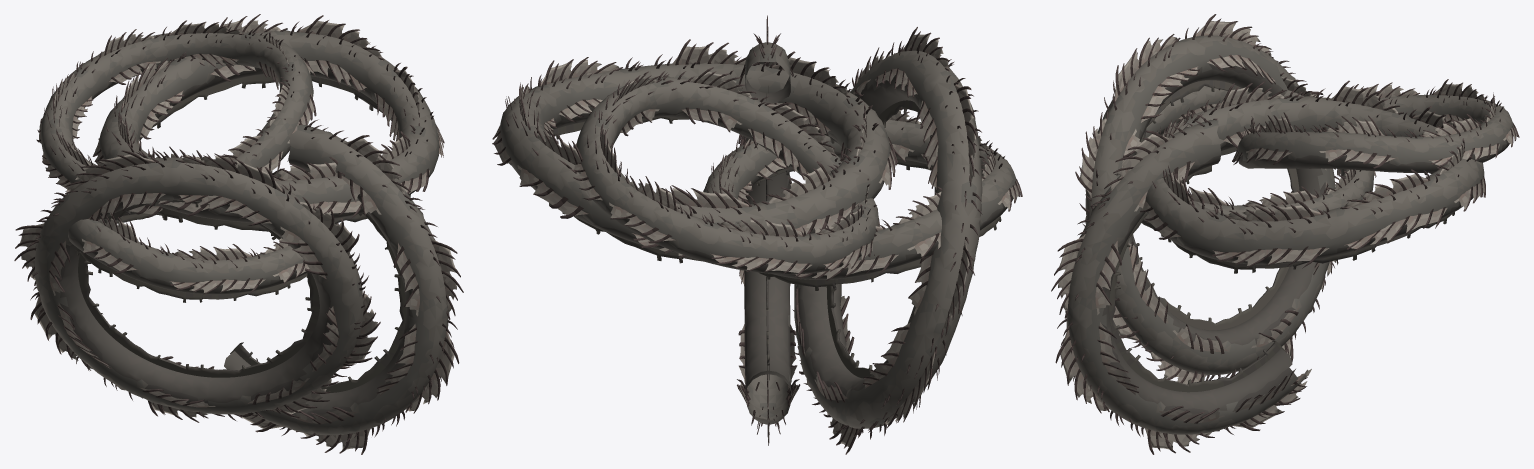
The model's file is Rffffffff_Act_Fix.fbx.
The picture shows the model from 3 angles, left to right: view 1: azimuth 30°, elevation 25°; view 2: azimuth 150°, elevation 25°; view 3: azimuth 270°, elevation 25°; orthographic projection. The views are drawn at different scales.
Visible parts, largest first — view 1: LeviathanRing2, LevRing1, LeviathanRing, levring3, levring2; view 2: LeviathanRing2, LevRing1, levring3, levring2, LeviathanRing; view 3: LeviathanRing2, LeviathanRing, LevRing1, levring3, levring2.
Boxes of the visible parts, box(x1,y1,x2,y2) form: LeviathanRing2: box(14, 150, 380, 422); LevRing1: box(92, 14, 444, 235); LeviathanRing: box(224, 119, 463, 454); levring3: box(36, 20, 316, 217); levring2: box(68, 155, 338, 302); LeviathanRing2: box(792, 27, 985, 454); LevRing1: box(492, 39, 897, 263); levring3: box(573, 67, 880, 277); levring2: box(703, 110, 1022, 290); LeviathanRing: box(737, 15, 800, 445); LeviathanRing2: box(1075, 14, 1339, 384); LeviathanRing: box(1051, 115, 1311, 454); LevRing1: box(1140, 80, 1485, 273); levring3: box(1232, 79, 1519, 172); levring2: box(1141, 72, 1376, 236).
Bounding box in the file's own units: 13160 × 10916 × 13119.
Materials: 1 (1 with a texture image).
